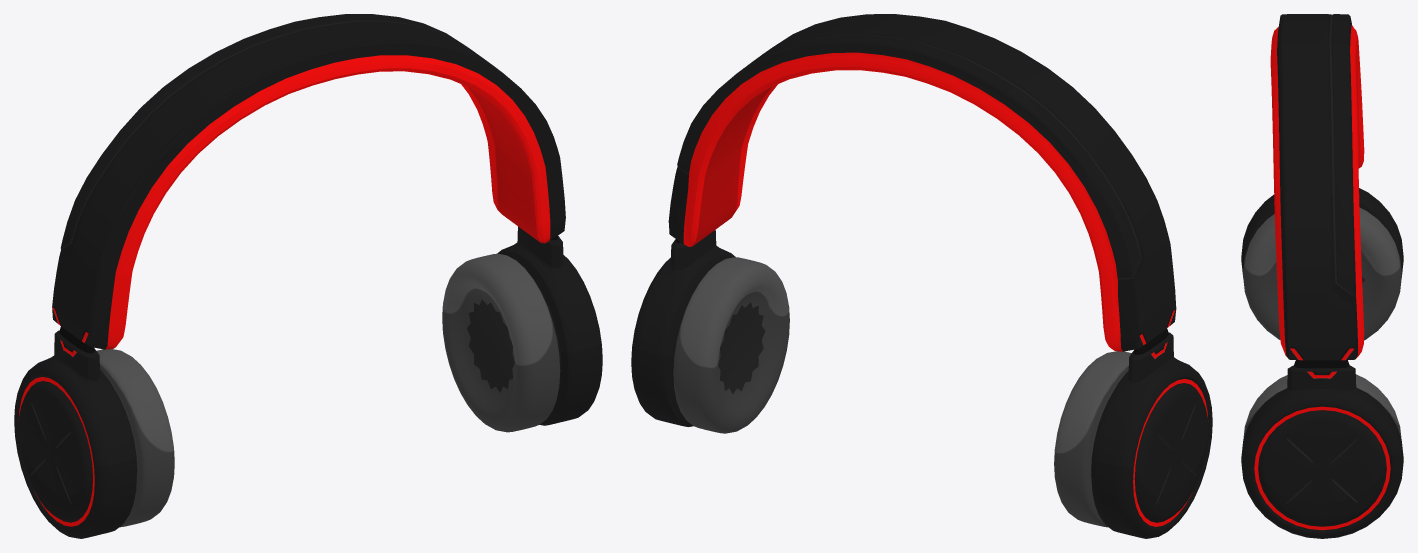
The model's file is headphones-obsidian.glb.
3 renders of one model, left to right at view 1: azimuth 30°, elevation 25°; view 2: azimuth 150°, elevation 25°; view 3: azimuth 270°, elevation 25°, orthographic. The views are drawn at different scales.
Visible parts, largest first — view 1: Cylinder.001; view 2: Cylinder.001; view 3: Cylinder.001.
Part boxes in pixels (x1,y1,x2,y2): Cylinder.001: (14,14,602,538); Cylinder.001: (631,14,1212,538); Cylinder.001: (1241,14,1403,538).
Bounding box in the file's own units: 0.2817 × 0.2308 × 0.0864.
1 material, 1 textured.
